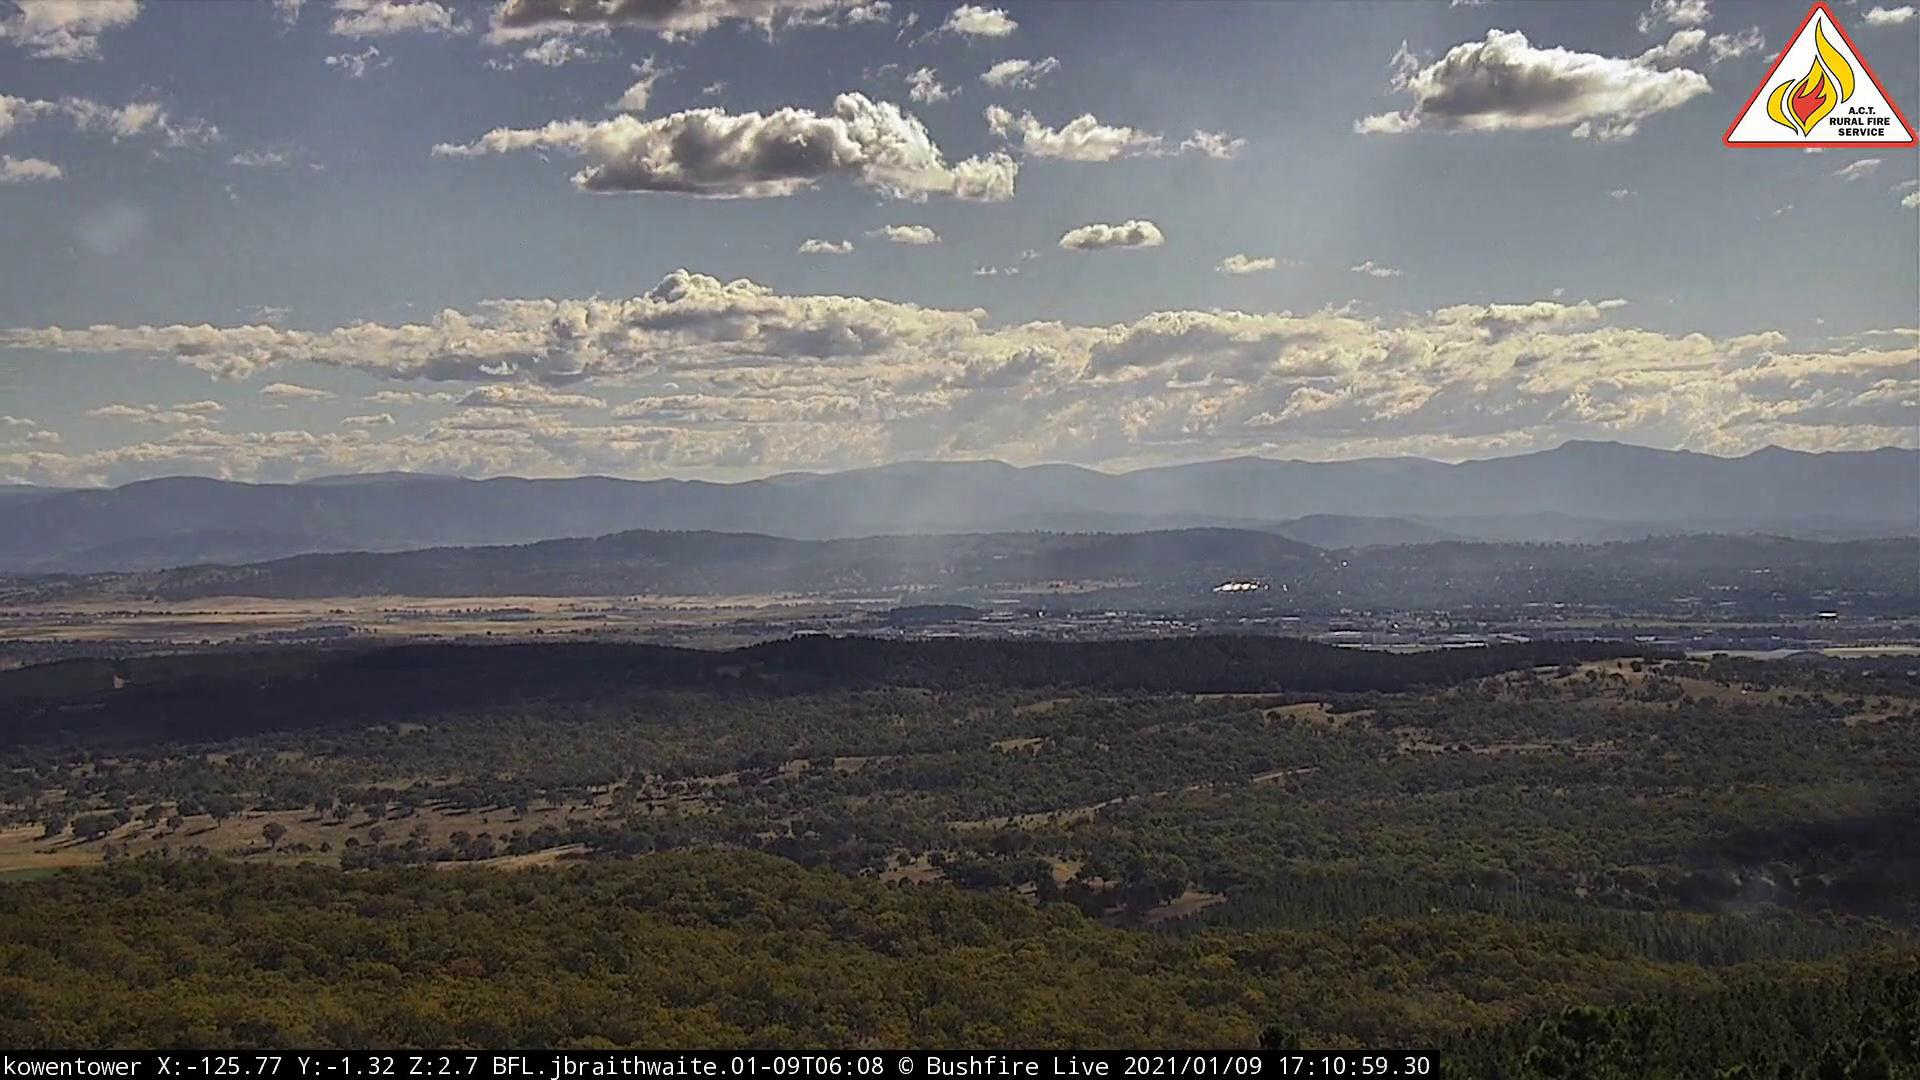instance_salient_object: (783, 520, 985, 611)
